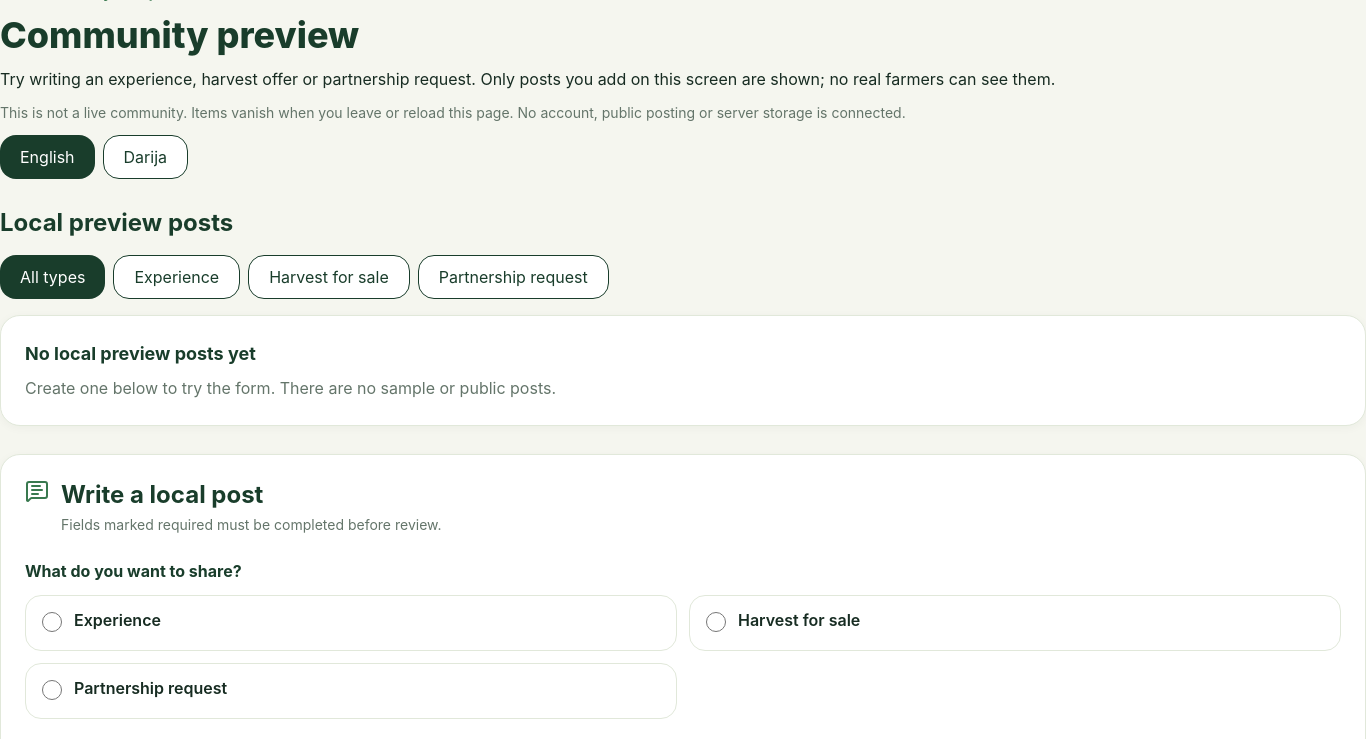
Test: M4 community is a LOCAL demo, not public posting › shows partnership purpose and broad area errors, then reviews user input
This screenshot has width=1366, height=739.
Click the radio button labelled "Partnership request".
click(52, 690)  # box [42,680,62,700]
(page scrolled)
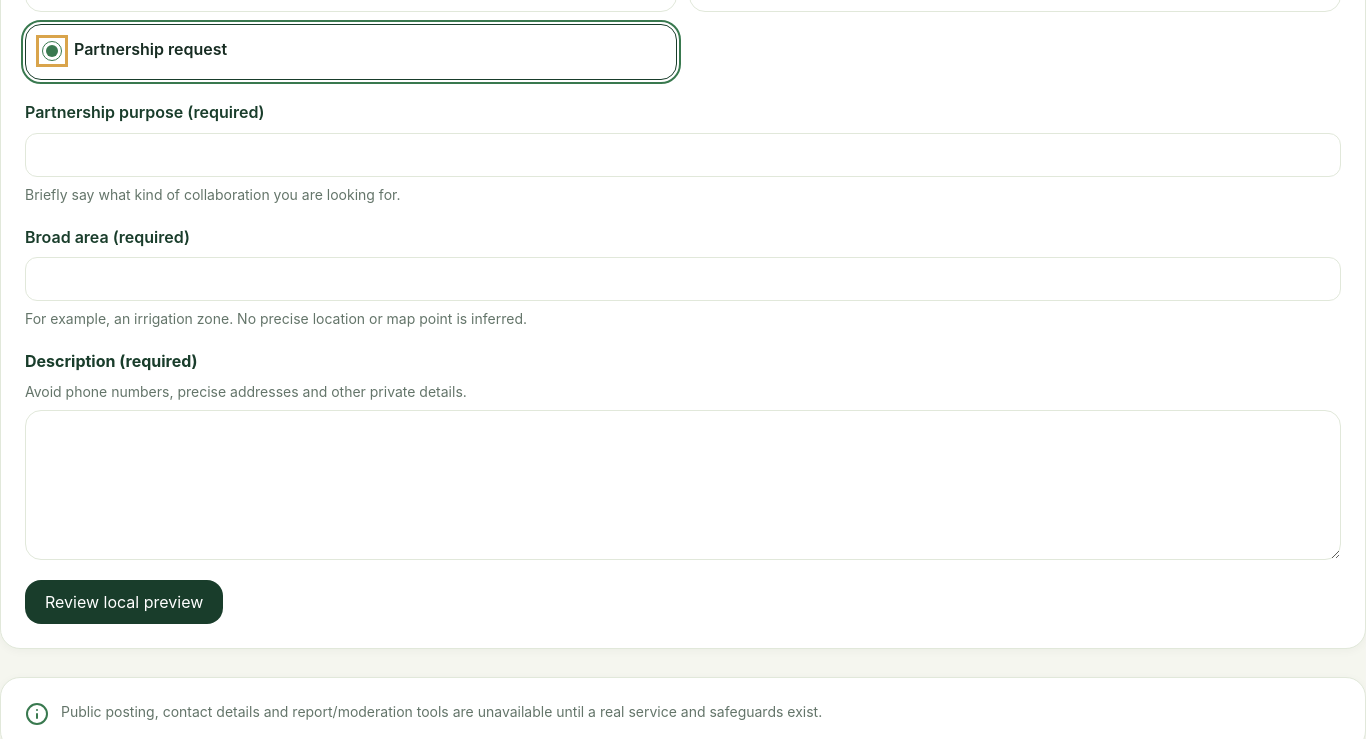
Click the button "Review local preview".
click(124, 602)  # box [25,580,223,624]
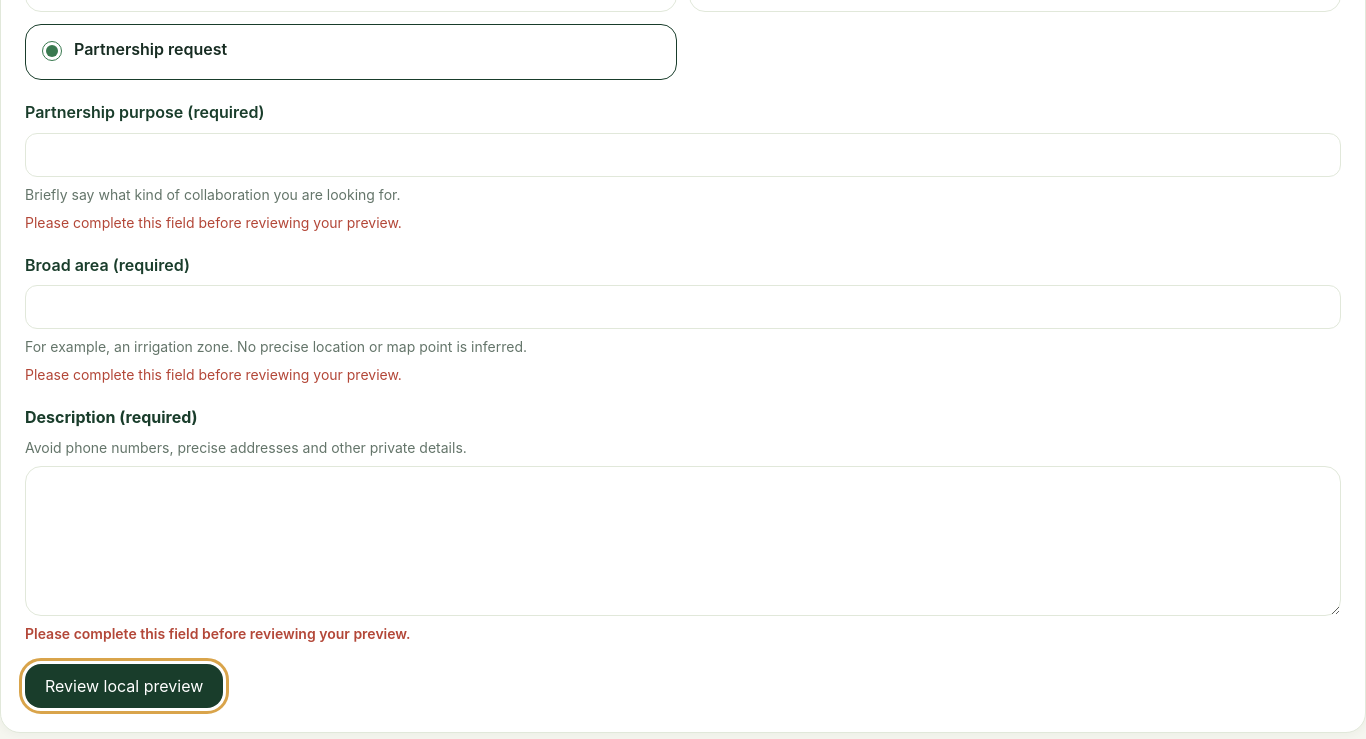
Type "Coordinate a shared equipment idea" into the field labelled "Partnership purpose (required)".
click(683, 155); type("Coordinate a shared equipment idea")  # box [25,133,1341,177]
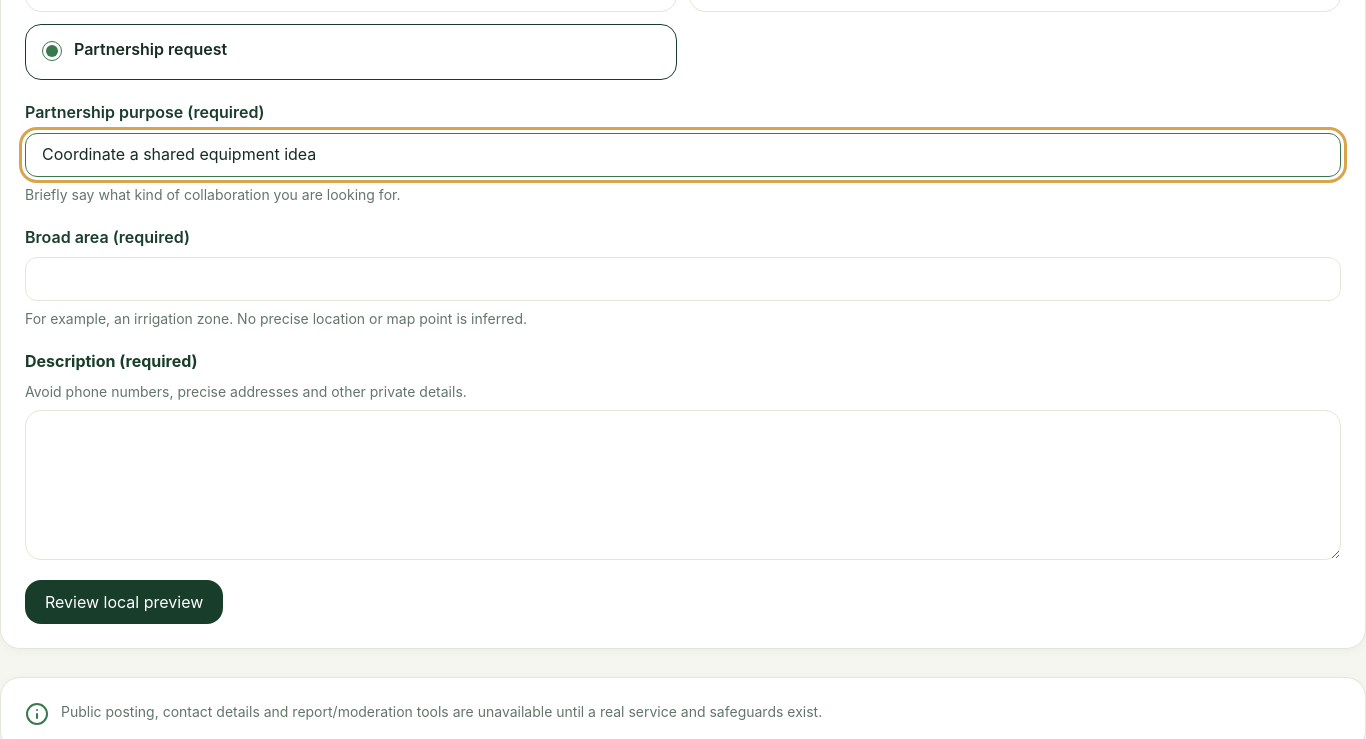
Type "Béni Moussa" into the field labelled "Broad area (required)".
click(683, 279); type("Béni Moussa")  # box [25,257,1341,301]
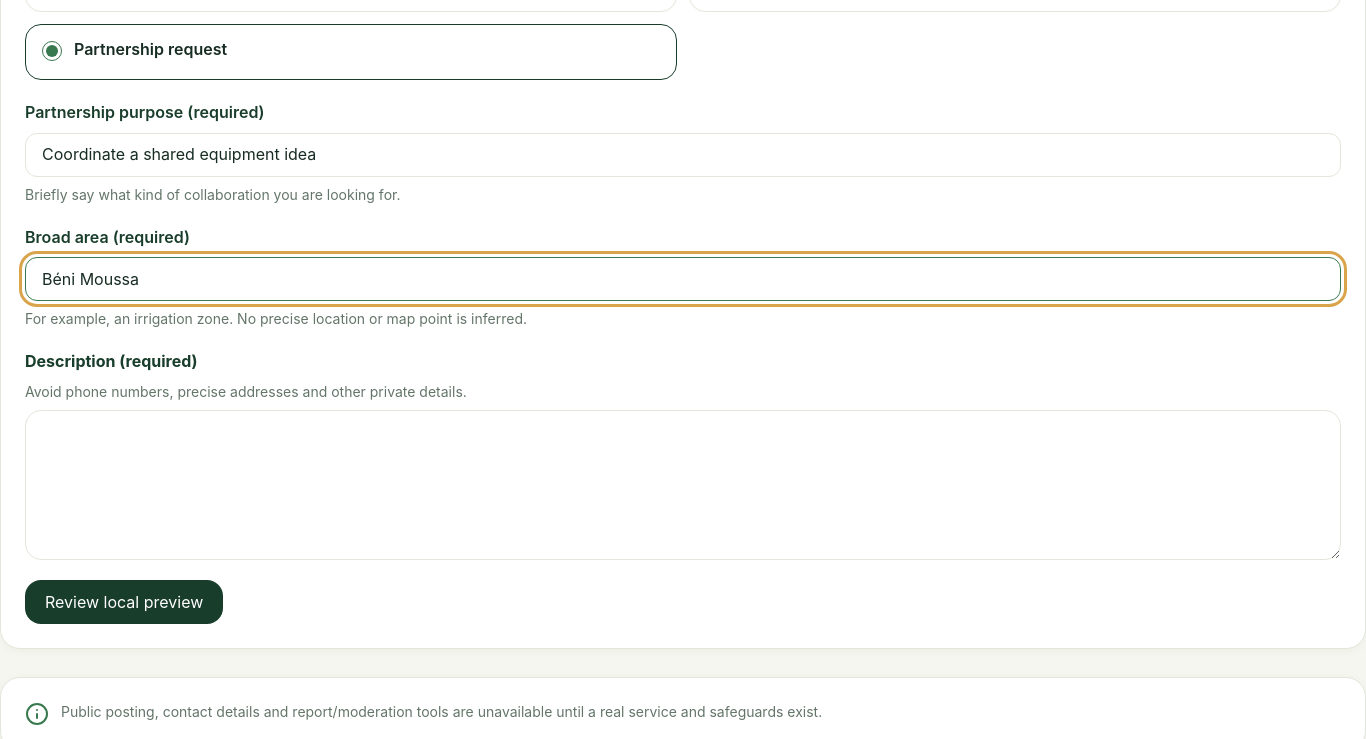
Type "A draft conversation topic" into the text box labelled "Description (required)".
click(683, 485); type("A draft conversation topic")  # box [25,410,1341,560]
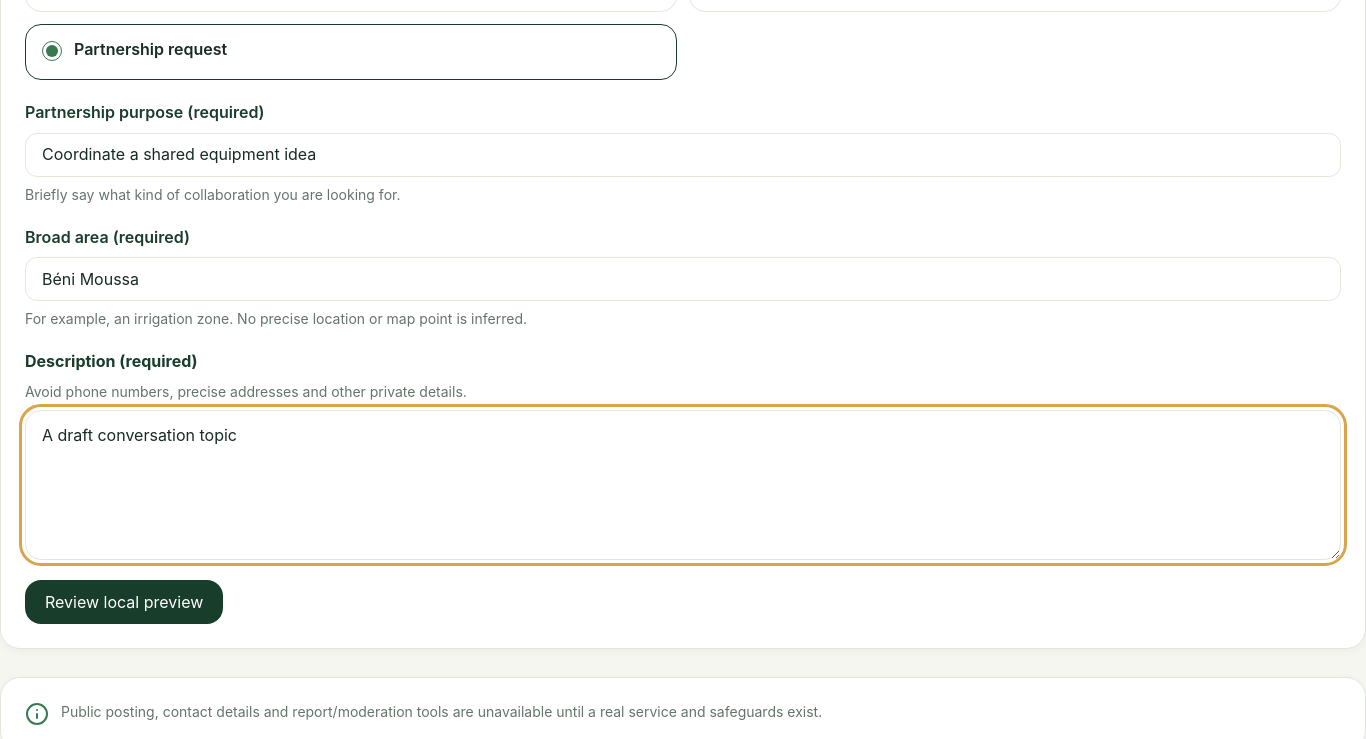
Click the button "Review local preview".
click(124, 602)  # box [25,580,223,624]
(page scrolled)
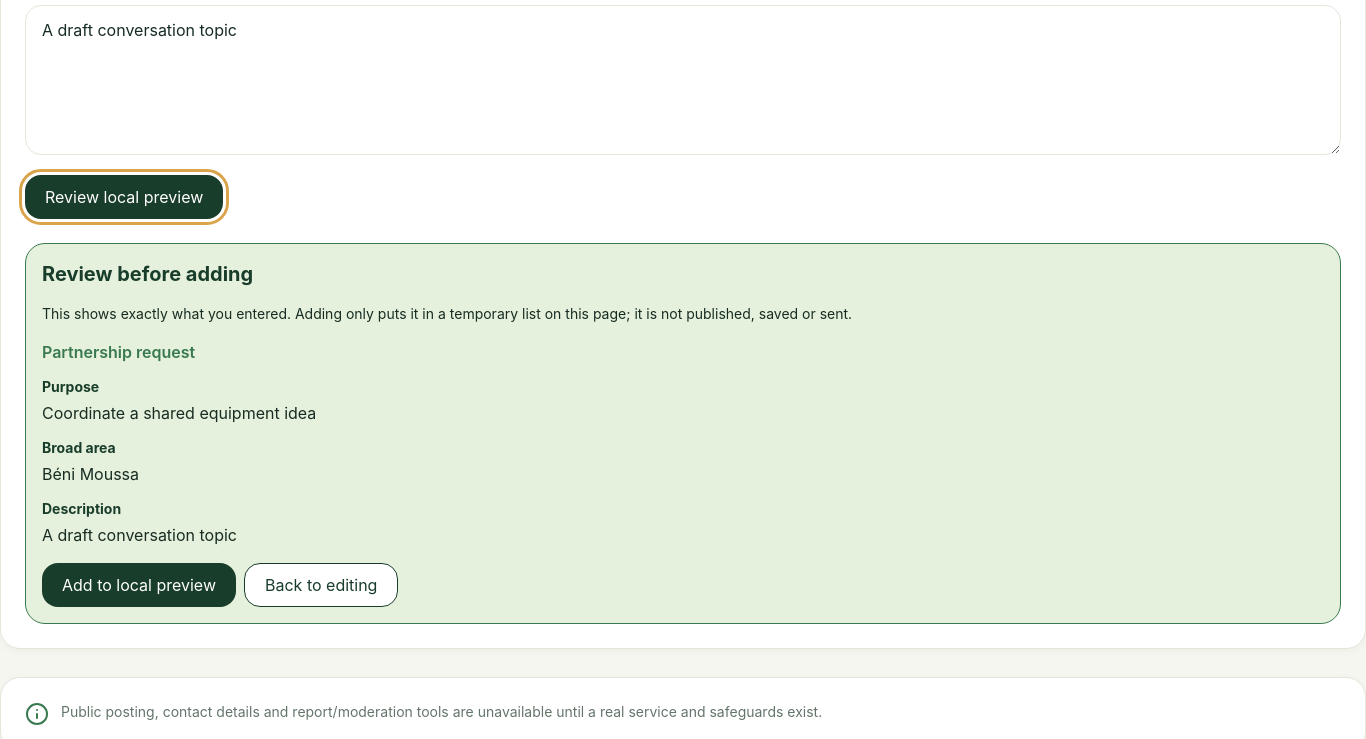
Now the text "Coordinate a shared equipment idea" is shown, box [42,403,316,423]
Now the text "Béni Moussa" is shown, box [42,464,139,484]
